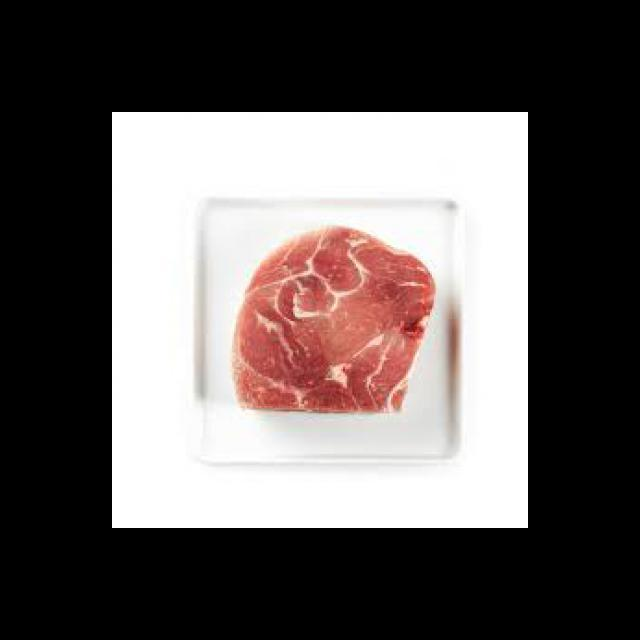pork: (242, 230, 436, 417)
